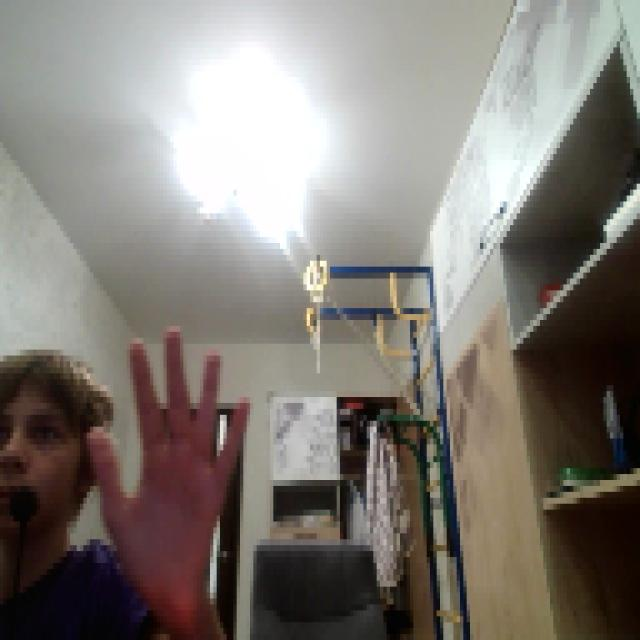hand: (83, 320, 247, 610)
